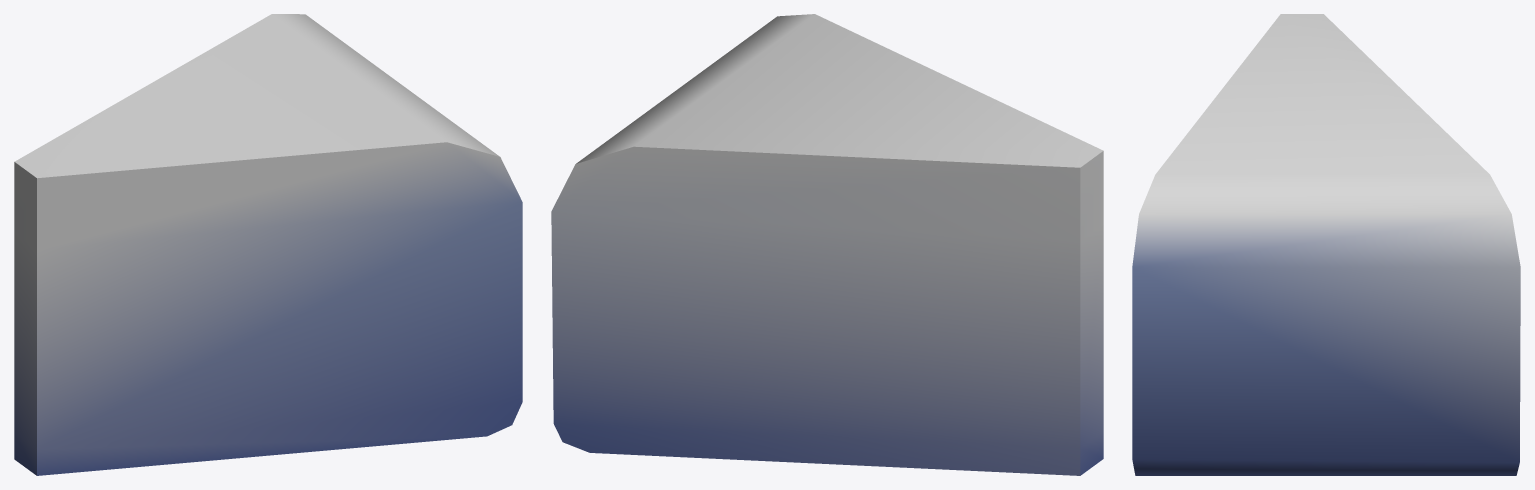
File: Fromage_Vertex_Color.fbx
The picture shows the model from 3 angles, left to right: view 1: azimuth 30°, elevation 25°; view 2: azimuth 150°, elevation 25°; view 3: azimuth 270°, elevation 25°; orthographic projection. The views are drawn at different scales.
Visible parts, largest first — view 1: Fromage.1; view 2: Fromage.1; view 3: Fromage.1.
Boxes of the visible parts, x1,y1,x2,y2 form: Fromage.1: (14,14,522,475); Fromage.1: (551,14,1103,475); Fromage.1: (1132,14,1520,475).
Size of the model in its own units: 1069 by 745 by 923.
